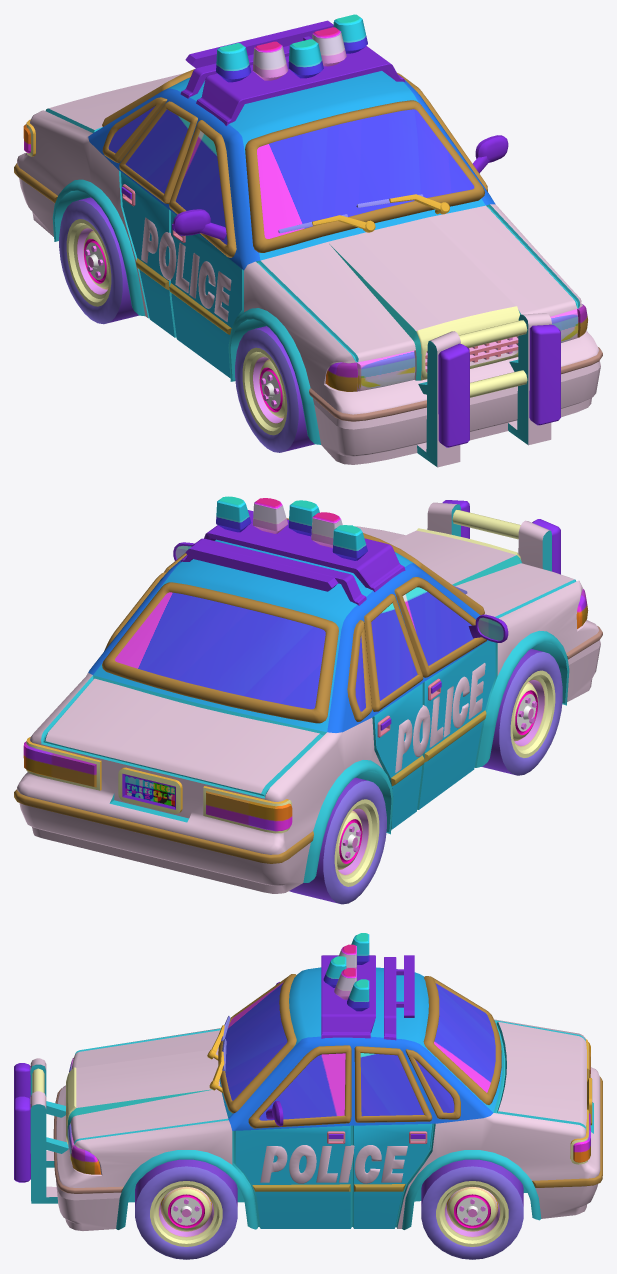
Rendered from BlackPoliceCar_GRP.fbx.
The picture shows the model from 3 angles, top to bottom: view 1: azimuth 30°, elevation 25°; view 2: azimuth 150°, elevation 25°; view 3: azimuth 270°, elevation 25°; orthographic projection. The views are drawn at different scales.
Visible parts, largest first — view 1: BlackPoliceCar_mesh, BlackPoliceCar_Wheel_BR_mesh, BlackPoliceCar_Wheel_FR_mesh; view 2: BlackPoliceCar_mesh, BlackPoliceCar_Wheel_BR_mesh, BlackPoliceCar_Wheel_FR_mesh; view 3: BlackPoliceCar_mesh, BlackPoliceCar_Wheel_FL_mesh, BlackPoliceCar_Wheel_BL_mesh.
Part boxes in pixels (box(x1,y1,x2,y2)): BlackPoliceCar_mesh: box(14, 14, 602, 467); BlackPoliceCar_Wheel_BR_mesh: box(59, 197, 138, 324); BlackPoliceCar_Wheel_FR_mesh: box(235, 326, 314, 452); BlackPoliceCar_mesh: box(14, 496, 602, 893); BlackPoliceCar_Wheel_BR_mesh: box(289, 777, 386, 904); BlackPoliceCar_Wheel_FR_mesh: box(481, 649, 562, 775); BlackPoliceCar_mesh: box(14, 933, 602, 1230); BlackPoliceCar_Wheel_FL_mesh: box(135, 1159, 237, 1259); BlackPoliceCar_Wheel_BL_mesh: box(421, 1159, 523, 1259).
Bounding box in the file's own units: 1.56 × 1.36 × 2.94.
